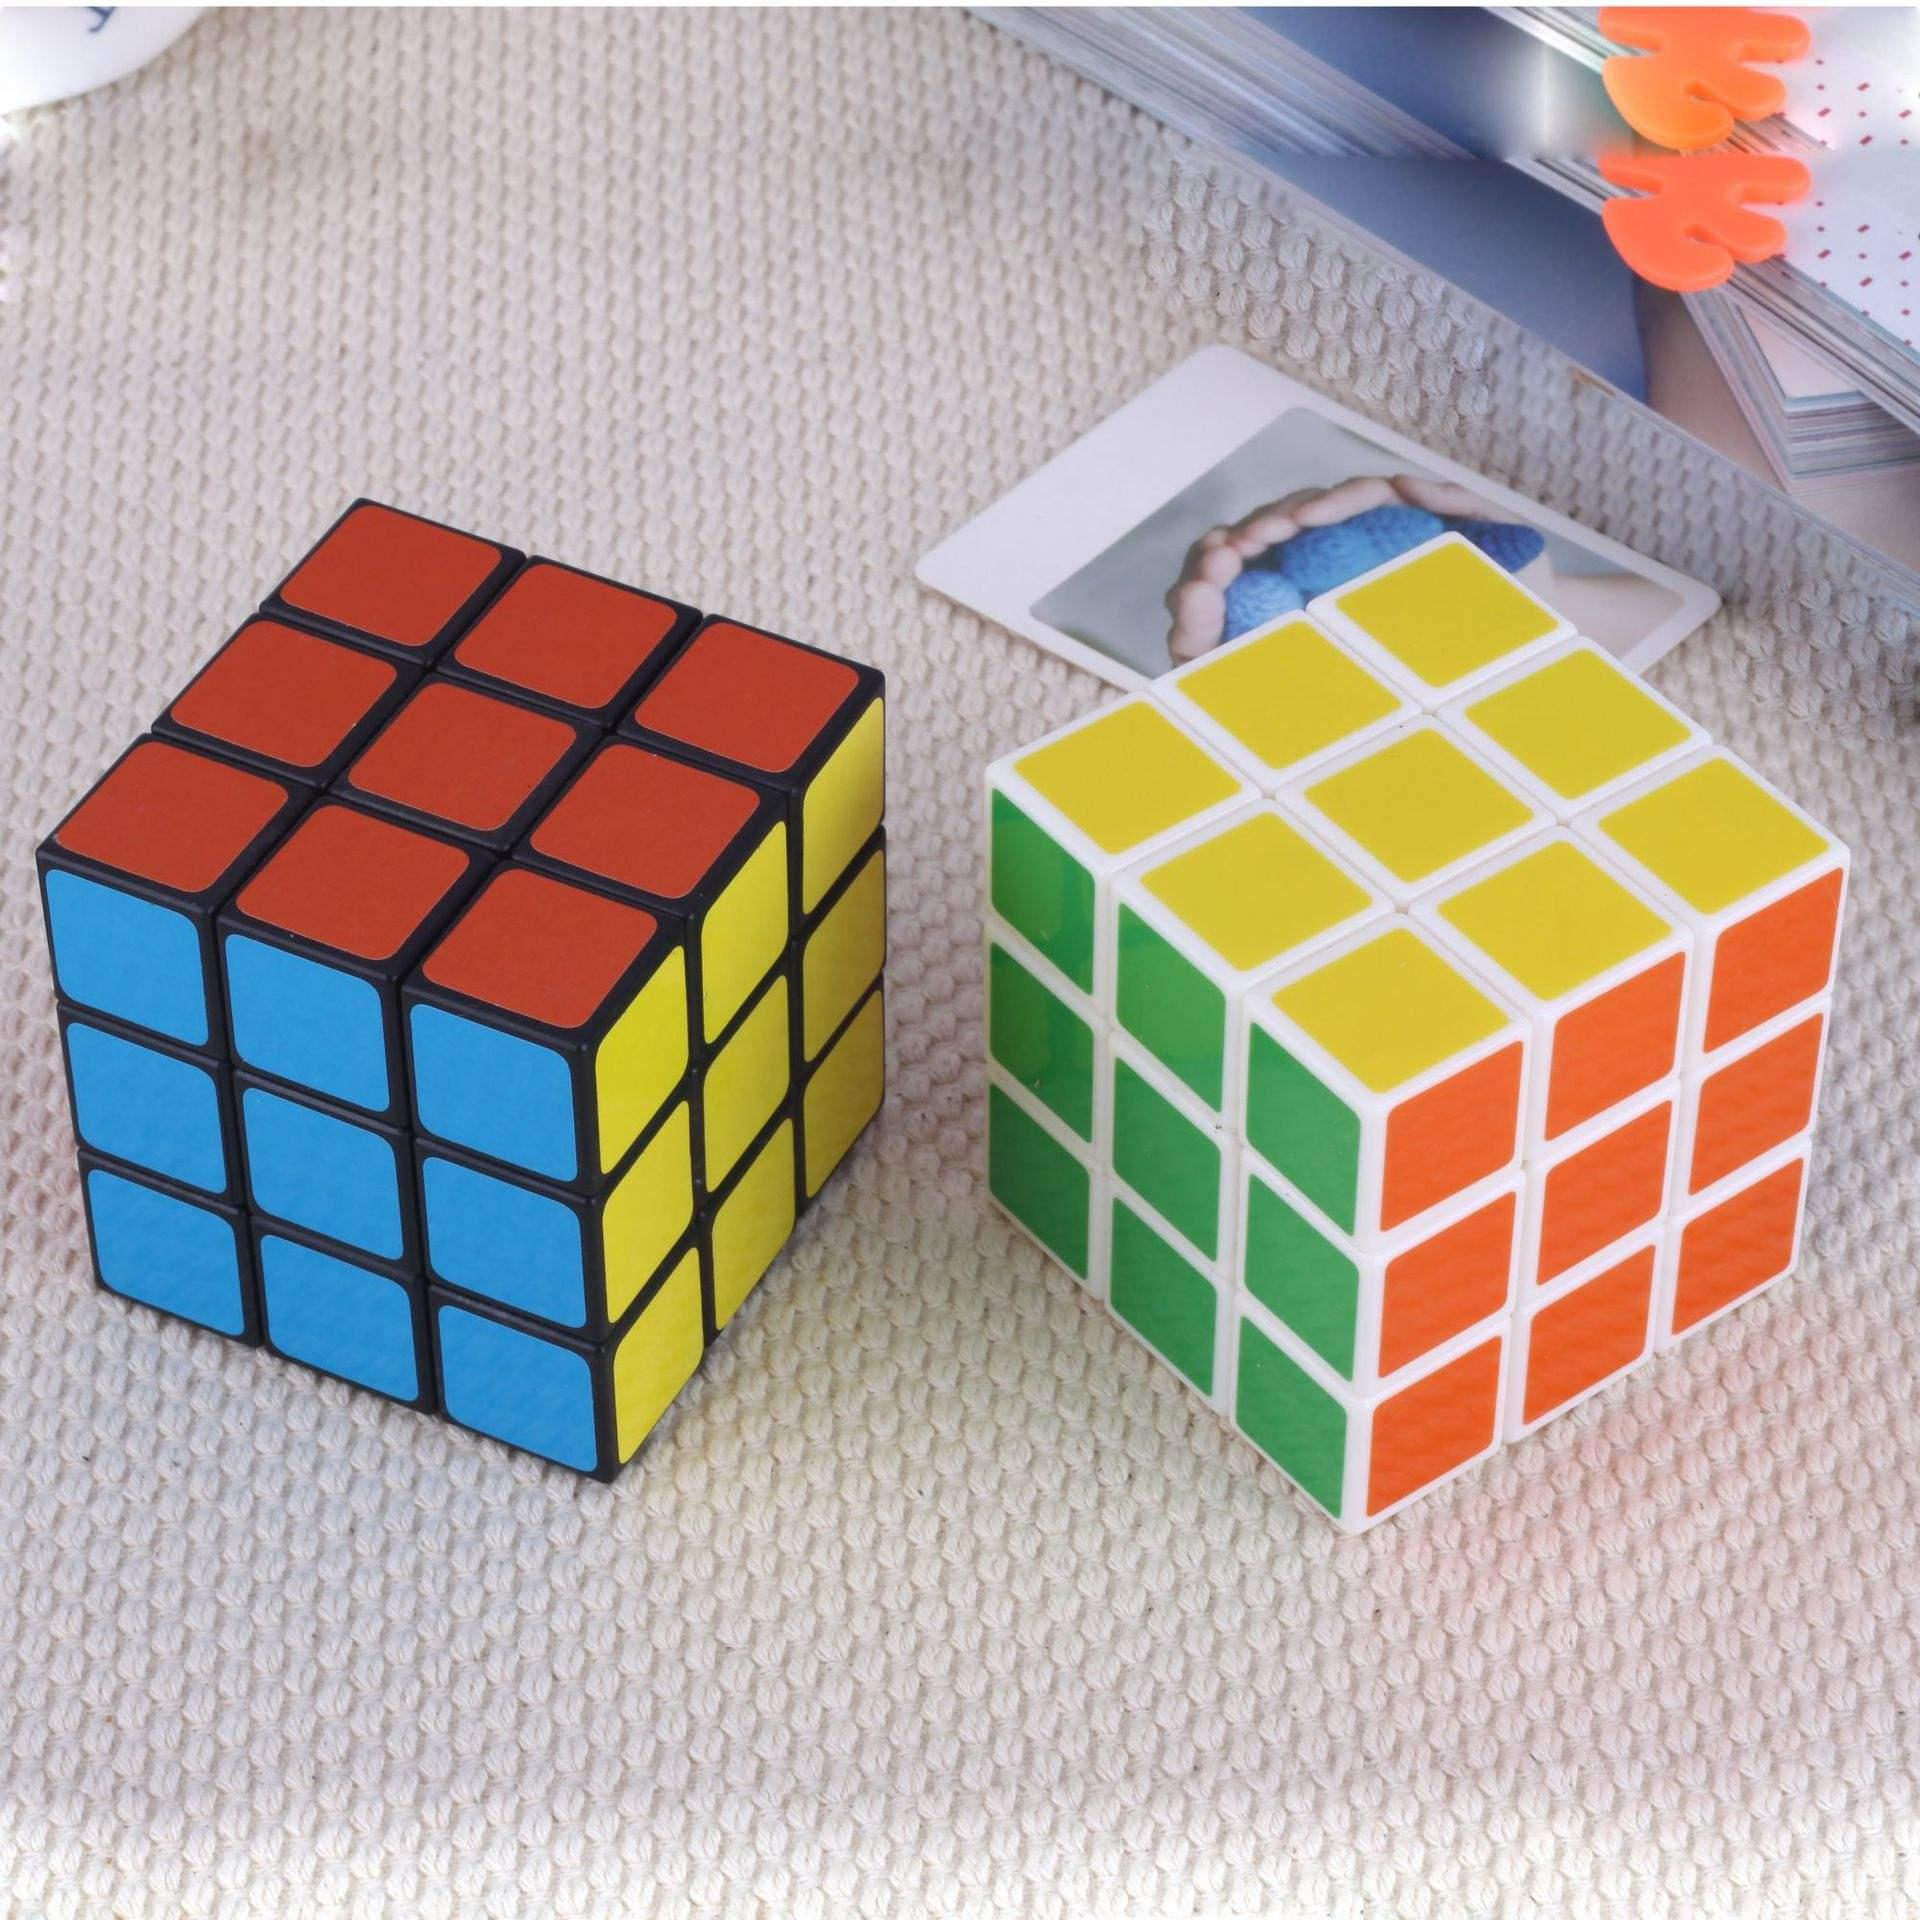cube: (23, 478, 971, 1542), (930, 503, 1862, 1582)
